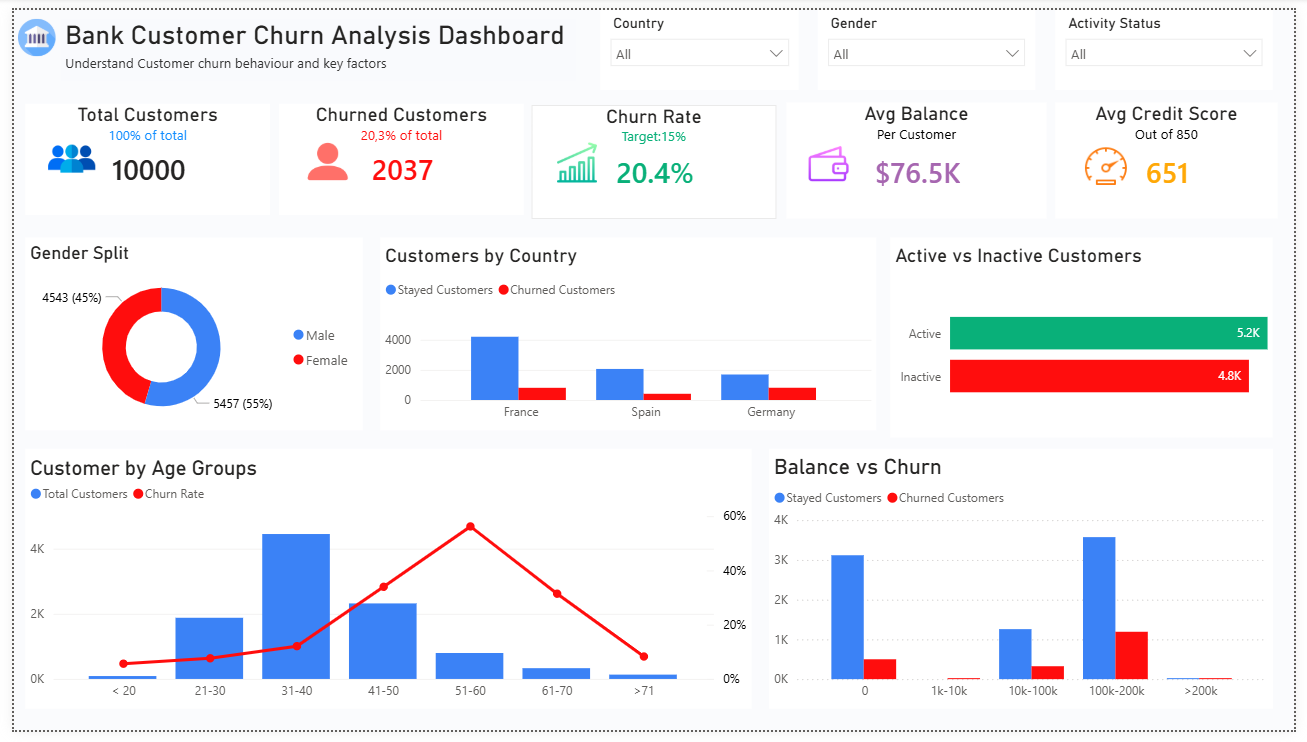

This screenshot's page, from the dashboard's own definition file:
{"tool":"powerbi","page":{"name":"Dashboard-1","canvas":[1280,720],"ordinal":0},"visuals":[{"type":"textbox","title":"Bank Customer Churn Analysis Dashboard","box":[45.8,8.4,516.4,62.7],"z":0},{"type":"image","box":[0,8.4,45.8,37.4],"z":1000},{"type":"slicer","fields":{"Values":["Customer Data.Country"]},"box":[586.2,0,198.8,80],"z":2000},{"type":"slicer","fields":{"Values":["Customer Data.Gender"]},"box":[803.8,0,217.5,80],"z":3000},{"type":"slicer","fields":{"Values":["Customer Data.Activity Status"]},"box":[1041.2,0,217.5,80],"z":4000},{"type":"cardVisual","title":"Total Customers","fields":{"Data":["Customer Data.Total Customers Display"]},"box":[11.2,93.8,245,111.2],"z":5000},{"type":"image","box":[32.5,125,50,47.5],"z":6000},{"type":"cardVisual","title":"Churned Customers","fields":{"Data":["Customer Data.Churned Customers Display"]},"box":[265,93.8,245,111.2],"z":7000},{"type":"image","box":[292.5,128.8,42.5,45],"z":8000},{"type":"cardVisual","title":"Churn Rate","fields":{"Data":["Customer Data.Churn Rate"]},"box":[517.5,95,245,113.8],"z":9000},{"type":"image","box":[535,132.5,56.2,40],"z":10000},{"type":"cardVisual","title":"Avg Balance","fields":{"Data":["Customer Data.Avg Balance"]},"box":[772.5,92.5,260,116.2],"z":11000},{"type":"image","box":[785,133.8,58.8,40],"z":12000},{"type":"cardVisual","title":"Avg Credit Score","fields":{"Data":["Customer Data.Avg Credit Score Display"]},"box":[1041.2,92.5,222.5,116.2],"z":13000},{"type":"image","box":[1067.5,133.8,48.8,45],"z":14000},{"type":"donutChart","title":"Gender Split","fields":{"Y":["Customer Data.Total Customers"],"Category":["Customer Data.Gender"]},"box":[11.2,227.5,337.5,192.5],"z":15000},{"type":"clusteredColumnChart","title":" Customers by Country","fields":{"Category":["Customer Data.Country"],"Y":["Customer Data.Stayed Customers","Customer Data.Churned Customers"]},"box":[366.2,227.5,496.2,192.5],"z":16000},{"type":"lineClusteredColumnComboChart","title":"Customer by Age Groups","fields":{"Y":["Customer Data.Total Customers"],"Y2":["Customer Data.Churn Rate"],"Category":["Age Groups.Age Groups"]},"box":[11.2,438.8,726.2,260],"z":17000},{"type":"barChart","title":"Active vs Inactive Customers","fields":{"Category":["Customer Data.Activity Status"],"Y":["Customer Data.Total Customers"]},"box":[876.2,227.5,382.5,200],"z":18000},{"type":"clusteredColumnChart","title":"Balance vs Churn","fields":{"Y":["Customer Data.Stayed Customers","Customer Data.Churned Customers"],"Category":["Account Balance Groups.Account Balance"]},"box":[755,438.8,503.8,260],"z":19000}]}

Visuals, with their boxes in screenshot pixels (x1, y1, x2, y2), scaled from the page's 1280x720 canvas onto the 1307x742 screenshot:
"Bank Customer Churn Analysis Dashboard" textbox: (left=47, top=9, right=574, bottom=73)
image: (left=0, top=9, right=47, bottom=47)
slicer - Customer Data.Country: (left=599, top=0, right=802, bottom=82)
slicer - Customer Data.Gender: (left=821, top=0, right=1043, bottom=82)
slicer - Customer Data.Activity Status: (left=1063, top=0, right=1285, bottom=82)
"Total Customers" cardVisual: (left=11, top=97, right=262, bottom=211)
image: (left=33, top=129, right=84, bottom=178)
"Churned Customers" cardVisual: (left=271, top=97, right=521, bottom=211)
image: (left=299, top=133, right=342, bottom=179)
"Churn Rate" cardVisual: (left=528, top=98, right=779, bottom=215)
image: (left=546, top=137, right=604, bottom=178)
"Avg Balance" cardVisual: (left=789, top=95, right=1054, bottom=215)
image: (left=802, top=138, right=862, bottom=179)
"Avg Credit Score" cardVisual: (left=1063, top=95, right=1290, bottom=215)
image: (left=1090, top=138, right=1140, bottom=184)
"Gender Split" donutChart: (left=11, top=234, right=356, bottom=433)
" Customers by Country" clusteredColumnChart: (left=374, top=234, right=881, bottom=433)
"Customer by Age Groups" lineClusteredColumnComboChart: (left=11, top=452, right=753, bottom=720)
"Active vs Inactive Customers" barChart: (left=895, top=234, right=1285, bottom=441)
"Balance vs Churn" clusteredColumnChart: (left=771, top=452, right=1285, bottom=720)
